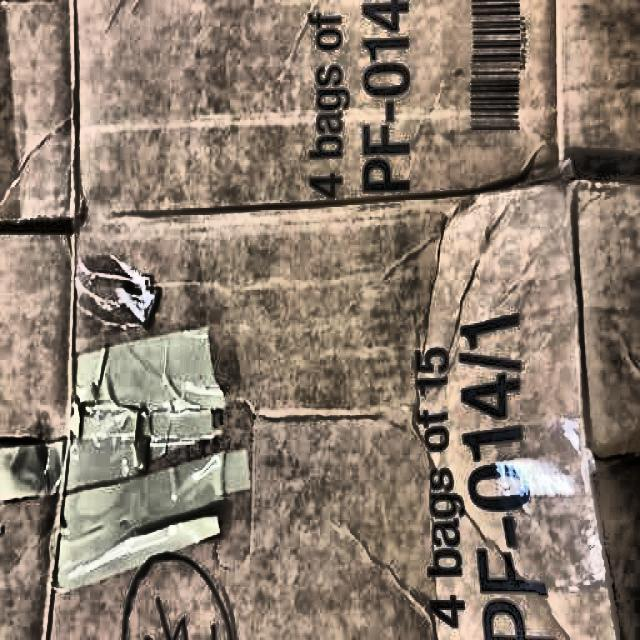cardboard: (22, 18, 630, 632)
